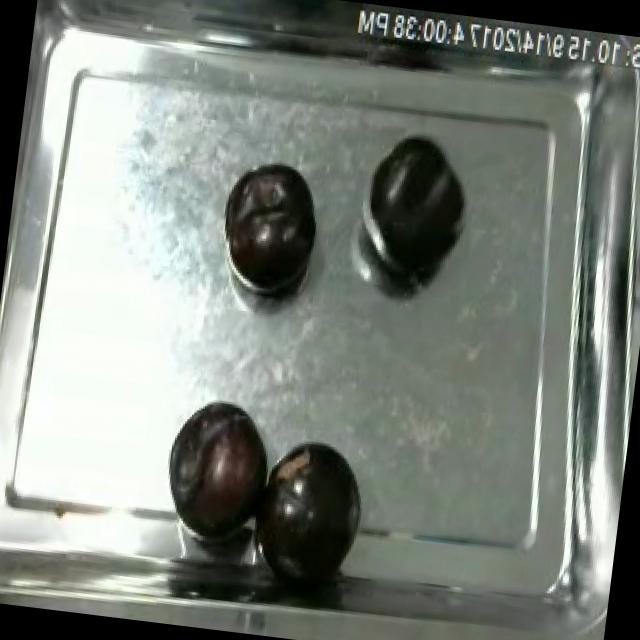Fruit: (252, 427, 380, 590), (154, 390, 282, 548), (356, 126, 477, 288), (216, 154, 327, 306)
